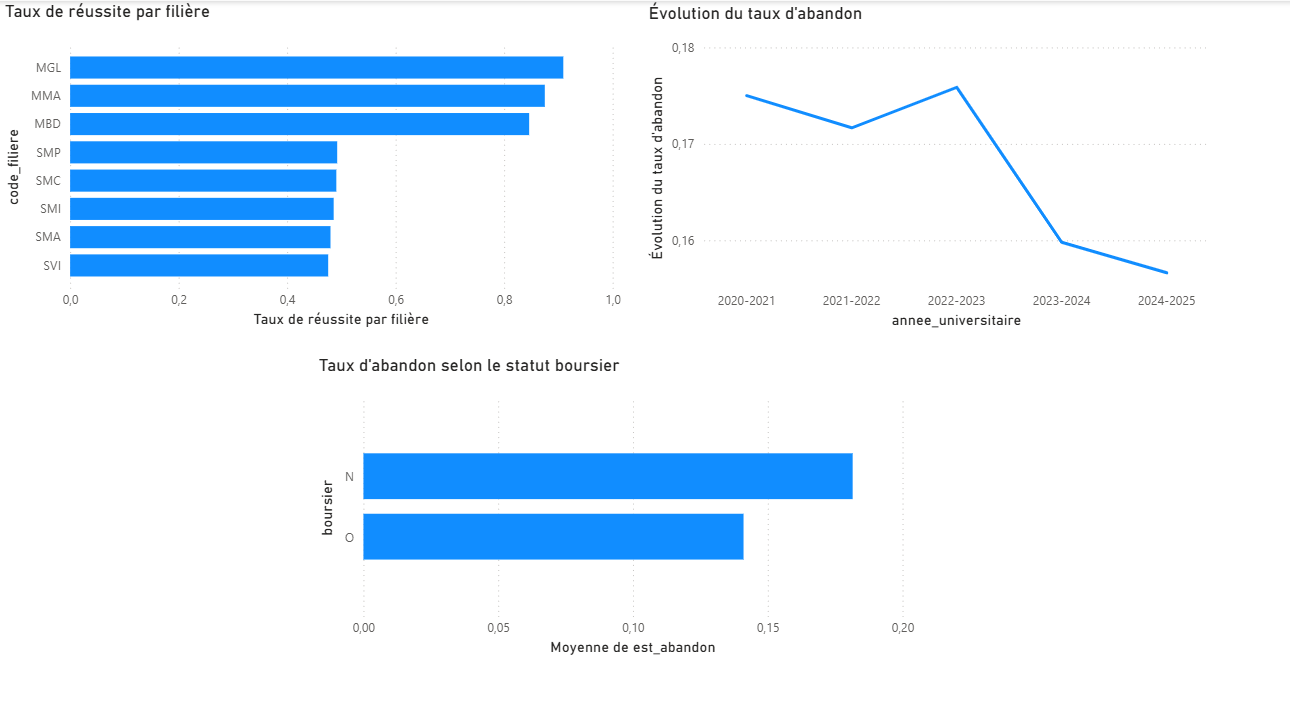

This screenshot's page, from the dashboard's own definition file:
{"tool":"powerbi","page":{"name":"Reussite","canvas":[1280,720],"ordinal":1},"visuals":[{"type":"barChart","title":"Taux de réussite par filière","fields":{"Category":["dim_filiere.code_filiere"],"Y":["Avg(fait_inscription.est_admis)"]},"box":[10.2,0,612.5,323.9],"z":0},{"type":"lineChart","title":"Évolution du taux d''abandon","fields":{"Category":["dim_temps.annee_universitaire"],"Y":["Avg(fait_inscription.est_abandon)"]},"box":[639.8,1.1,558,323.9],"z":1000},{"type":"clusteredBarChart","title":"Taux d''abandon selon le statut boursier","fields":{"Category":["dim_etudiant.boursier"],"Y":["Avg(fait_inscription.est_abandon)"]},"box":[317,346.6,593.2,298.9],"z":2000}]}

Visuals, with their boxes in screenshot pixels (x1, y1, x2, y2), scaled from the page's 1280x720 canvas onto the 1290x714 screenshot:
"Taux de réussite par filière" barChart: [10,0,628,321]
"Évolution du taux d''abandon" lineChart: [645,1,1207,322]
"Taux d''abandon selon le statut boursier" clusteredBarChart: [319,344,917,640]
